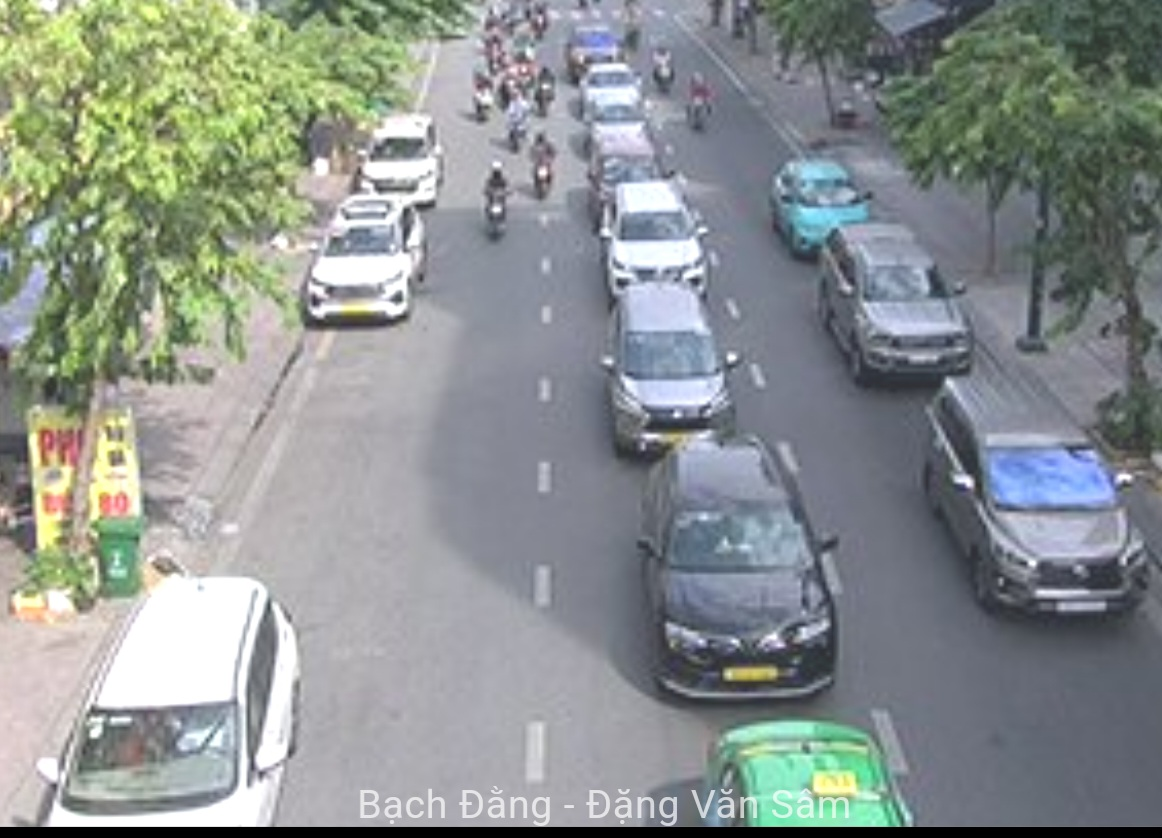car: (915, 379, 1149, 623), (83, 577, 293, 837), (638, 453, 841, 697), (821, 223, 975, 383), (606, 290, 732, 447), (309, 191, 422, 327), (598, 187, 709, 293), (767, 158, 872, 250), (358, 110, 440, 206), (577, 70, 645, 123), (568, 26, 629, 75)
